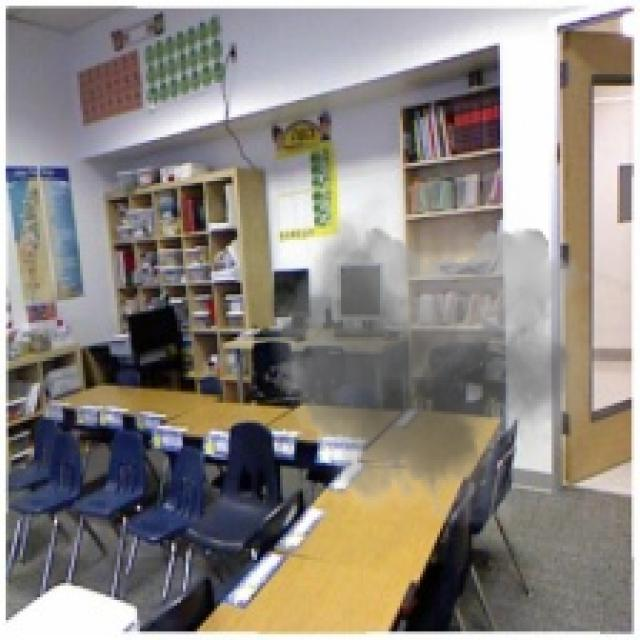smoke: (251, 146, 603, 548)
